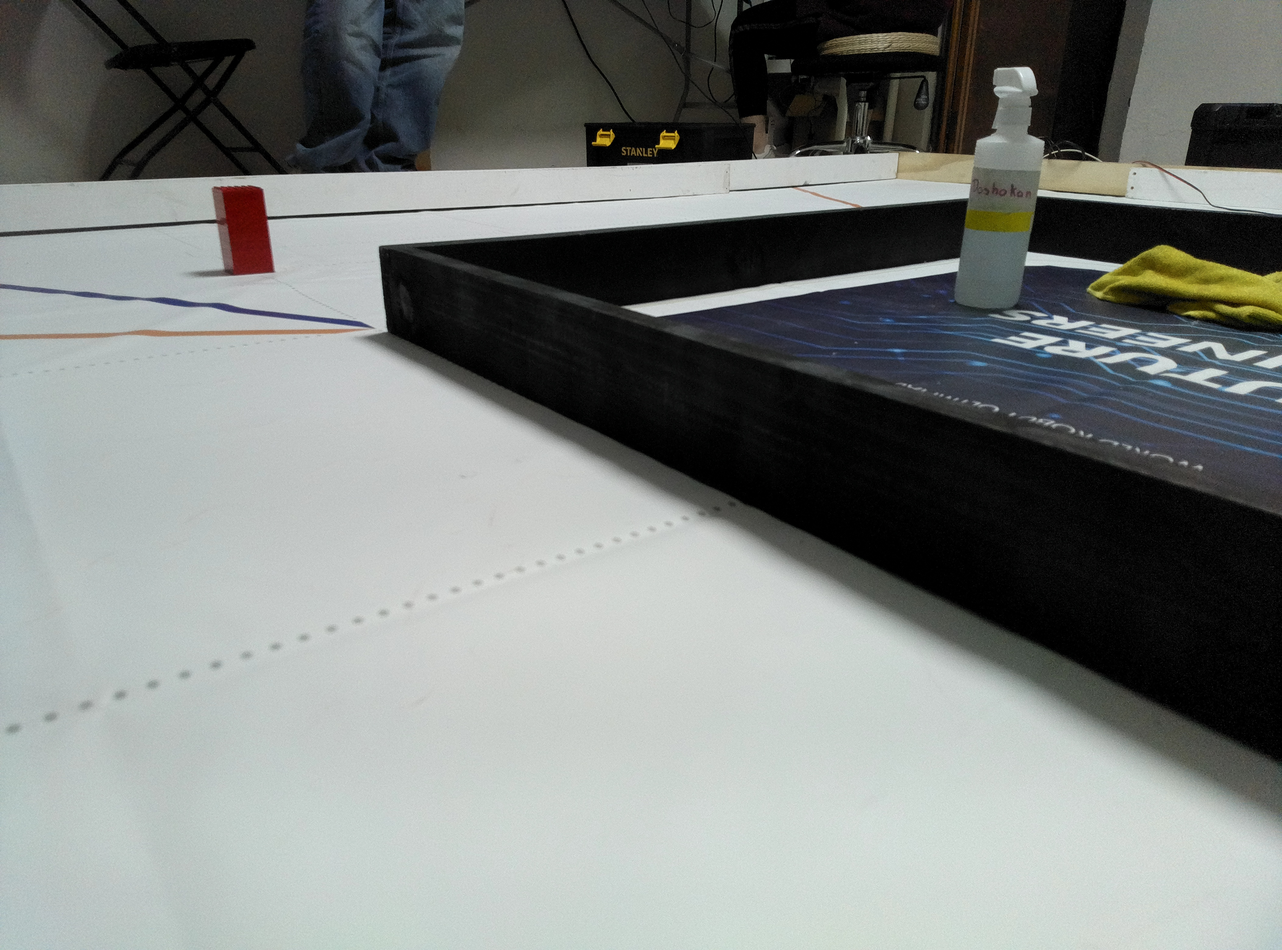redbox: (210, 183, 275, 278)
